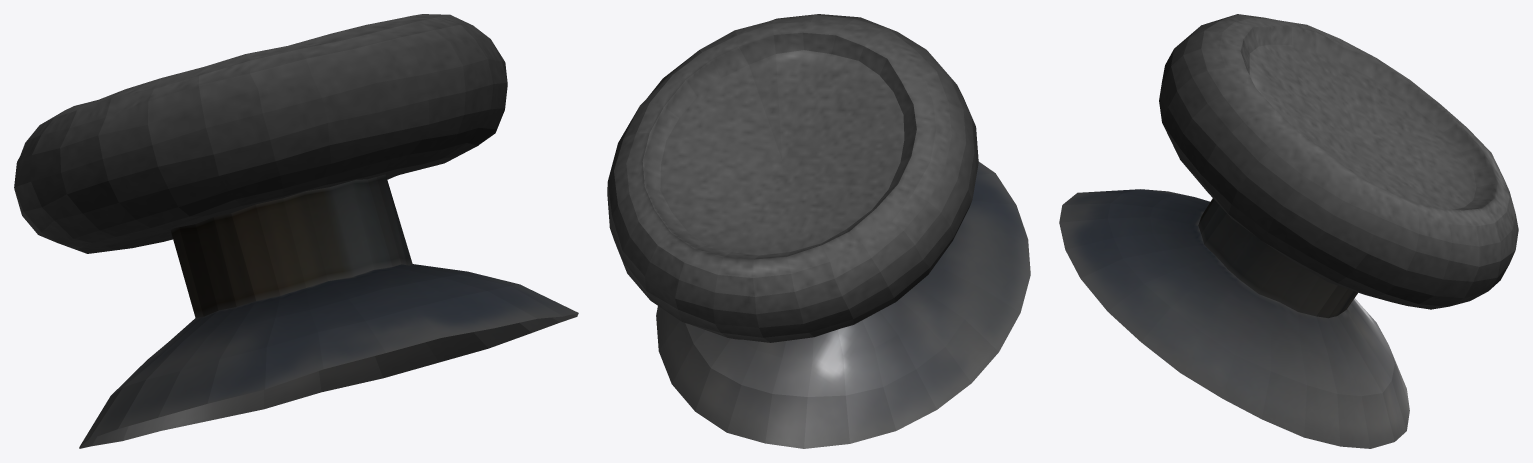
File: YVR_d3_right_joystick.obj
The picture shows the model from 3 angles, left to right: view 1: azimuth 30°, elevation 25°; view 2: azimuth 150°, elevation 25°; view 3: azimuth 270°, elevation 25°; orthographic projection. The views are drawn at different scales.
Parts seen in each view (by area): view 1: yvr_d3_right_joystick; view 2: yvr_d3_right_joystick; view 3: yvr_d3_right_joystick.
Boxes of the visible parts, box(x1,y1,x2,y2) form: yvr_d3_right_joystick: box(14, 14, 578, 448); yvr_d3_right_joystick: box(607, 14, 1030, 448); yvr_d3_right_joystick: box(1059, 14, 1518, 448).
Size of the model in its own units: 0.0135 by 0.0134 by 0.0152.
Materials: 1 (1 with a texture image).
